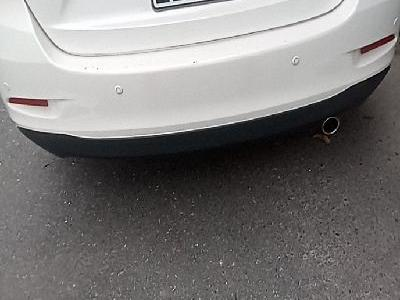number: (149, 1, 250, 14)
